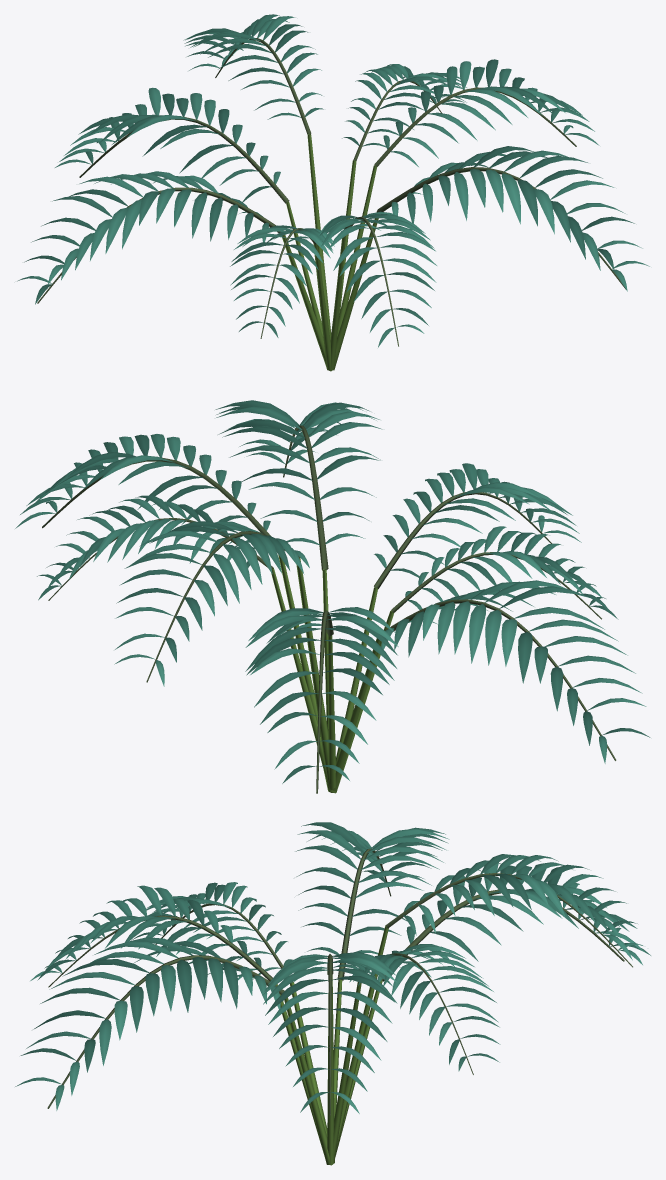
The model's file is Tower Fern.glb.
3 renders of one model, top to bottom at view 1: azimuth 30°, elevation 25°; view 2: azimuth 150°, elevation 25°; view 3: azimuth 270°, elevation 25°, orthographic. The views are drawn at different scales.
Parts seen in each view (by area): view 1: Tower Fern; view 2: Tower Fern; view 3: Tower Fern.
Boxes of the visible parts, box(x1,y1,x2,y2) form: Tower Fern: box(17, 14, 649, 371); Tower Fern: box(15, 400, 650, 793); Tower Fern: box(15, 822, 650, 1165).
Size of the model in its own units: 3.76 by 1.84 by 3.47.
